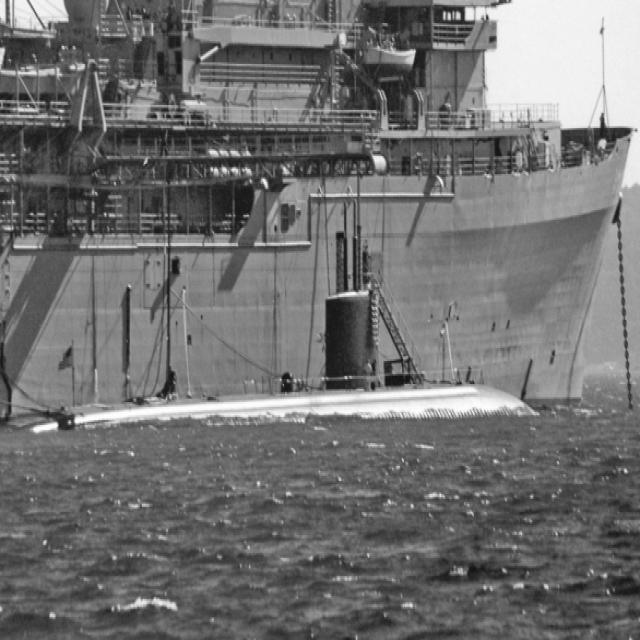submarine: (1, 201, 550, 430)
